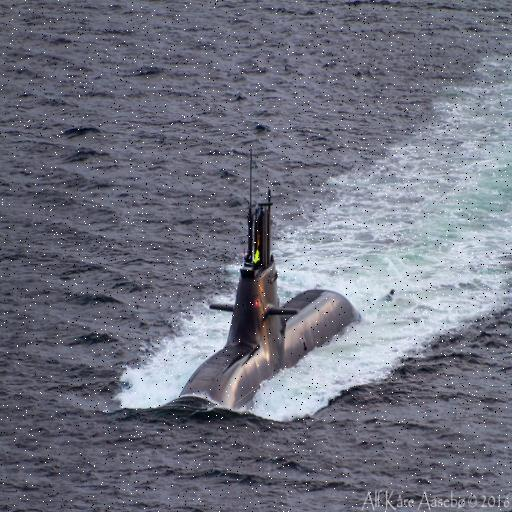submarine: (180, 149, 399, 427)
